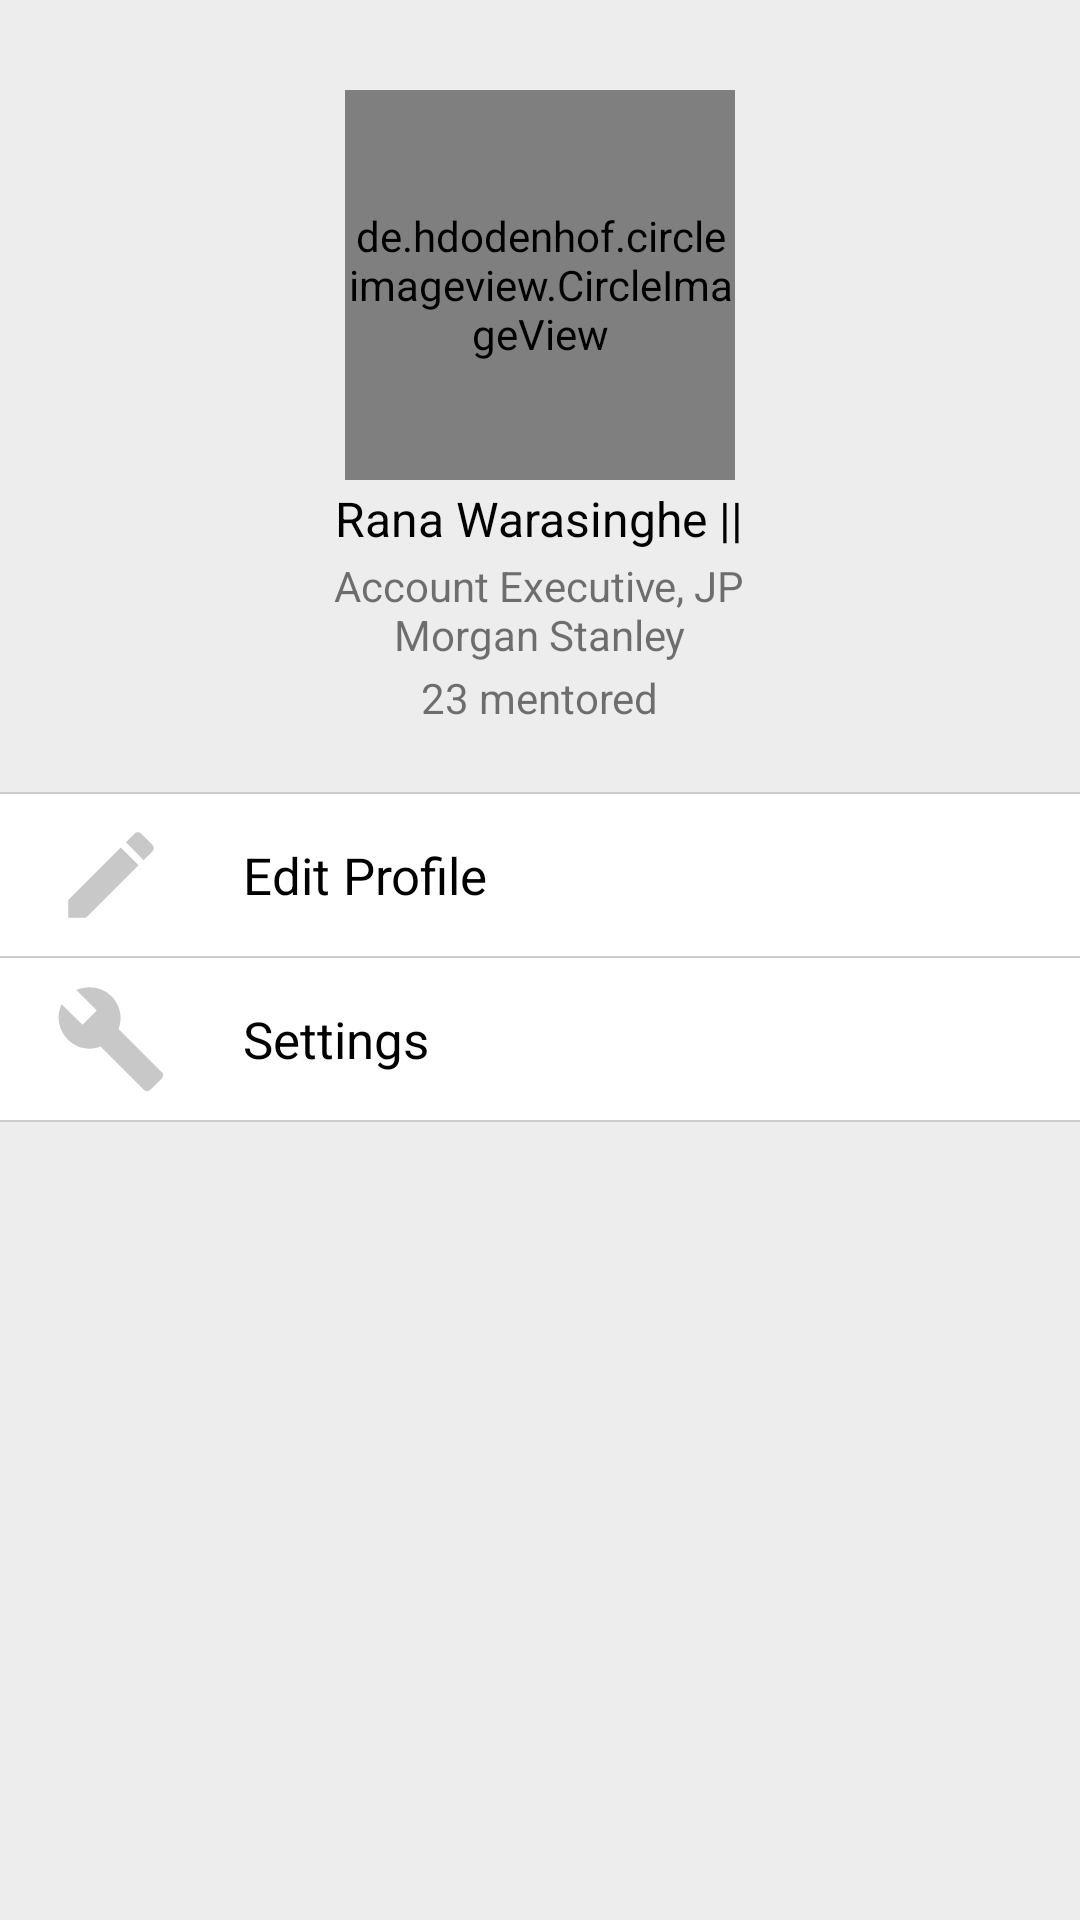

Named icons in this screenshot (1080w x 1920h) and their centers, point (x, y):
build: point (111, 1039)
